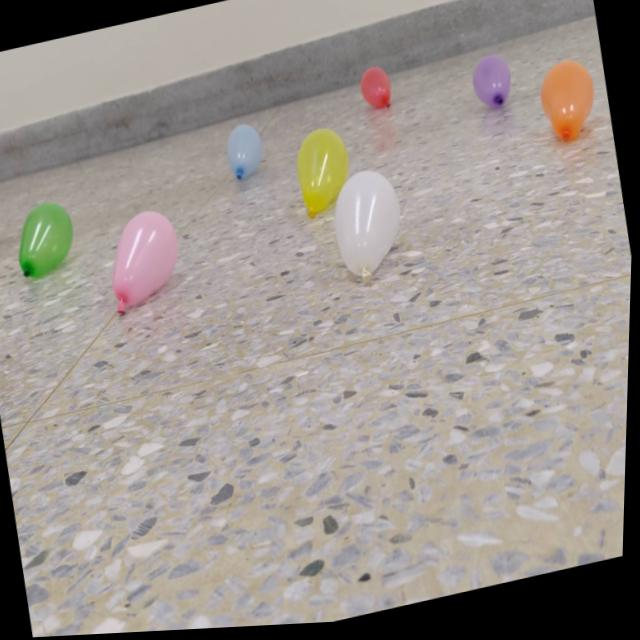other: (324, 167, 413, 292), (101, 206, 191, 314), (536, 58, 604, 154), (290, 126, 358, 221), (10, 194, 81, 281), (467, 54, 517, 117), (223, 121, 269, 184)
red: (357, 65, 395, 117)
